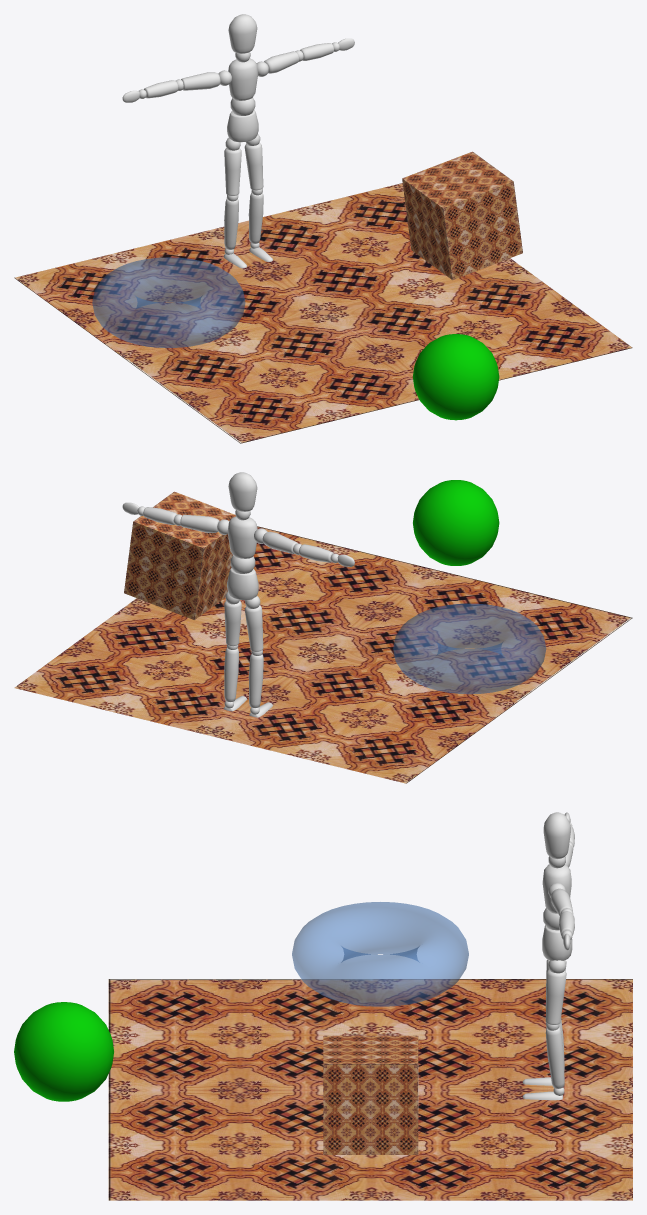
File: c4ddae1.5.dae
3 renders of one model, top to bottom at view 1: azimuth 30°, elevation 25°; view 2: azimuth 150°, elevation 25°; view 3: azimuth 270°, elevation 25°, orthographic. The views are drawn at different scales.
Parts seen in each view (by area): view 1: 平面, 立方体, 圆环, 球体, 上体, 头部, 骨盆, 右_大腿, 左_大腿, 右_小腿, 左_小腿; view 2: 平面, 圆环, 立方体, 球体, 上体, 头部, 骨盆, 左_小腿, 右_小腿, 右_大腿, 左_大腿, 左_上臂 (+2 smaller); view 3: 平面, 圆环, 立方体, 球体, 头部, 左_大腿, 左_小腿, 上体, 骨盆.
Part boxes in pixels (bbox=[...]): 平面: bbox=[14, 183, 632, 443]; 立方体: bbox=[402, 151, 522, 279]; 圆环: bbox=[92, 257, 245, 347]; 球体: bbox=[413, 334, 499, 420]; 上体: bbox=[228, 58, 258, 100]; 头部: bbox=[228, 14, 257, 53]; 骨盆: bbox=[227, 110, 258, 142]; 右_大腿: bbox=[224, 148, 241, 195]; 左_大腿: bbox=[244, 142, 263, 190]; 右_小腿: bbox=[224, 198, 238, 249]; 左_小腿: bbox=[248, 192, 263, 243]; 平面: bbox=[14, 526, 632, 783]; 圆环: bbox=[393, 603, 546, 694]; 立方体: bbox=[124, 491, 235, 619]; 球体: bbox=[413, 480, 499, 565]; 上体: bbox=[227, 516, 257, 558]; 头部: bbox=[228, 472, 257, 511]; 骨盆: bbox=[227, 567, 258, 600]; 左_小腿: bbox=[224, 648, 238, 702]; 右_小腿: bbox=[248, 654, 263, 708]; 右_大腿: bbox=[244, 605, 263, 651]; 左_大腿: bbox=[224, 600, 241, 646]; 左_上臂: bbox=[180, 514, 219, 532]; 平面: bbox=[108, 979, 632, 1200]; 圆环: bbox=[292, 902, 468, 1006]; 立方体: bbox=[323, 1035, 418, 1154]; 球体: bbox=[14, 1002, 113, 1101]; 头部: bbox=[543, 812, 570, 859]; 左_大腿: bbox=[545, 969, 566, 1024]; 左_小腿: bbox=[545, 1027, 564, 1088]; 上体: bbox=[542, 864, 571, 913]; 骨盆: bbox=[542, 925, 572, 960].
Size of the model in its own units: 1767 by 1002 by 1983.
Materials: 3 (1 with a texture image).
